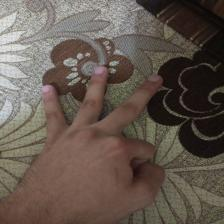five: (31, 61, 165, 224)
